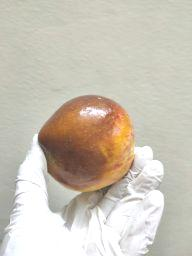Apple Rotten: (16, 73, 156, 202)
